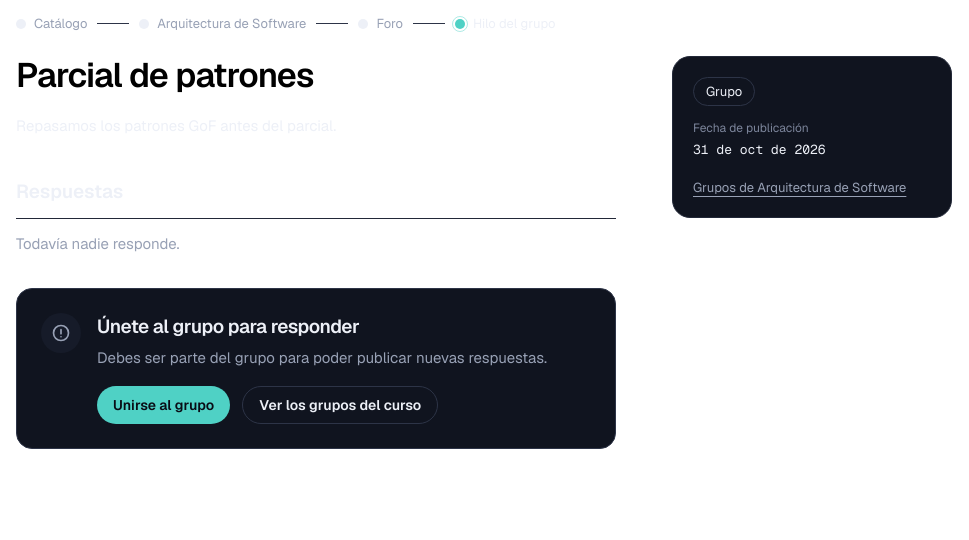
Scenario: El hilo de un grupo de estudio › quien no es miembro se une desde el hilo: aparece el formulario con el foco y se anuncia (HU405)
Expected: the heading "Parcial de patrones" is shown, [16,52,314,96]
Click the button "Unirse al grupo".
click(164, 405)  # box [97,386,230,424]
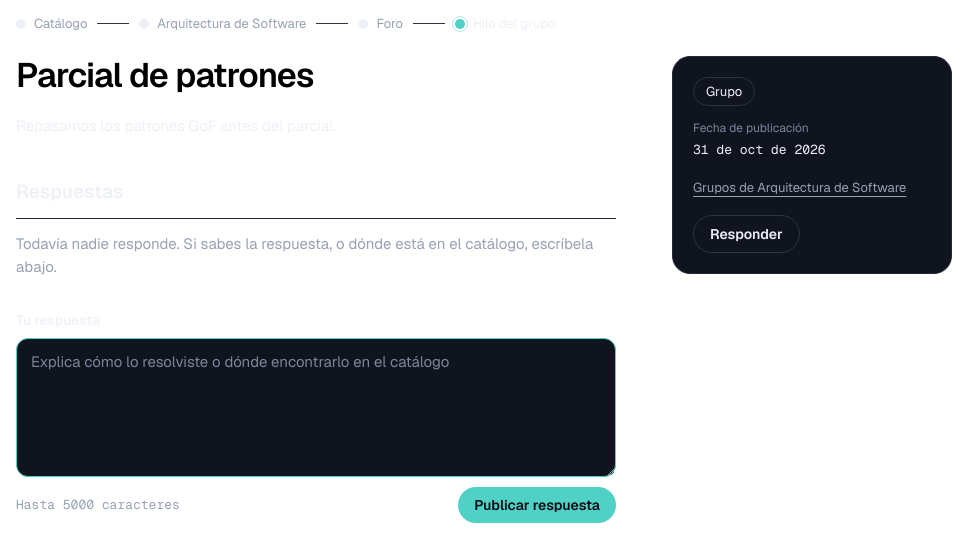
Now the form named "Responder la pregunta" is shown, box [16,310,616,523]
Now the heading "Únete al grupo para responder" is gone
